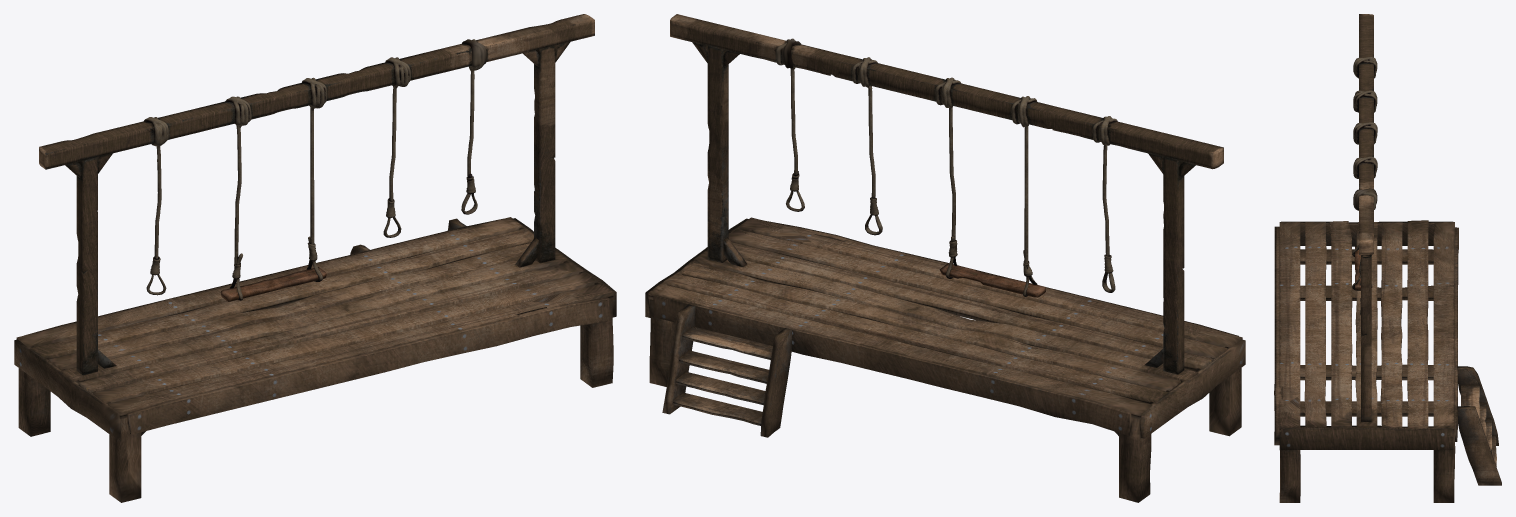
File: hangman_wooden_structure.glb
3 renders of one model, left to right at view 1: azimuth 30°, elevation 25°; view 2: azimuth 150°, elevation 25°; view 3: azimuth 270°, elevation 25°, orthographic. The views are drawn at different scales.
Parts seen in each view (by area): view 1: base, Main, Rope, wood; view 2: base, Main, ladder, Rope, wood; view 3: base, Main, ladder, Rope.
Part boxes in pixels (<box>): base: <box>14,217,616,502</box>; Main: <box>39,14,594,375</box>; Rope: <box>144,39,486,300</box>; wood: <box>221,267,326,301</box>; base: <box>645,217,1245,502</box>; Main: <box>670,14,1223,374</box>; ladder: <box>662,304,791,437</box>; Rope: <box>776,38,1117,296</box>; wood: <box>939,263,1045,297</box>; base: <box>1274,220,1458,502</box>; Main: <box>1359,14,1373,421</box>; ladder: <box>1457,366,1501,485</box>; Rope: <box>1352,57,1377,314</box>.
Bounding box in the file's own units: 28.78 × 16.39 × 12.18.
Materials: 5 (5 with a texture image).
